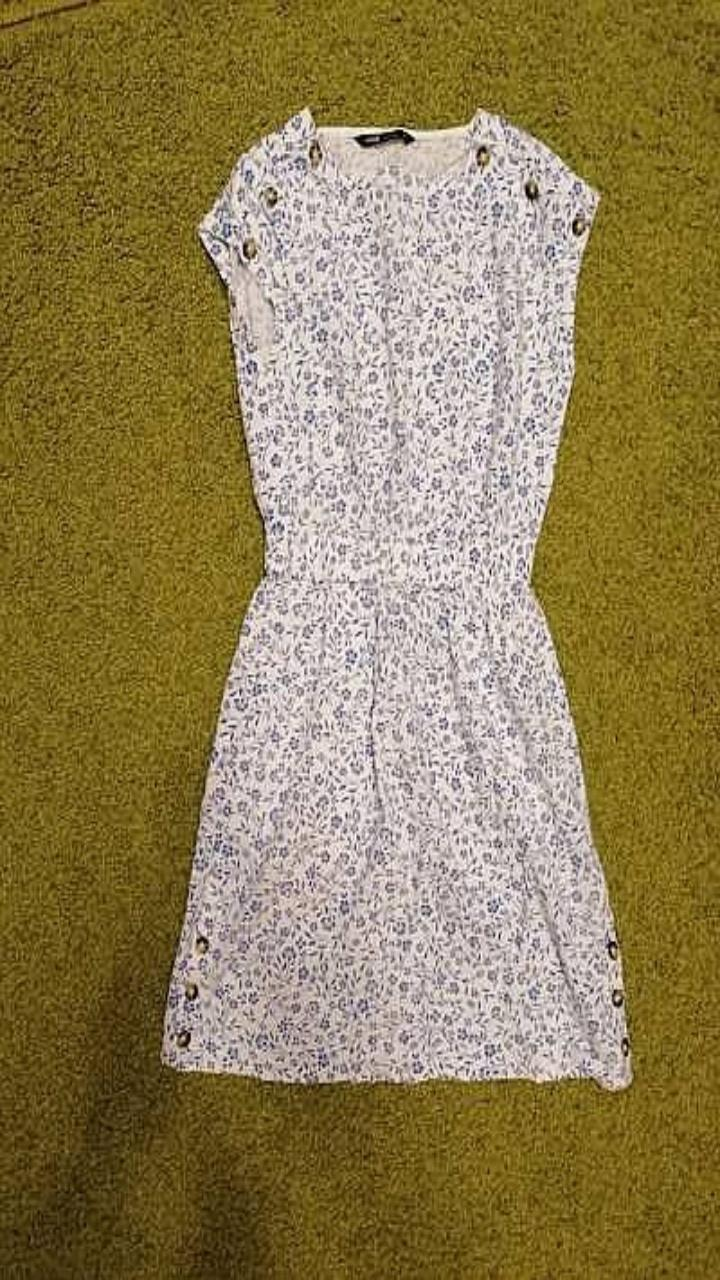Dresses: (162, 108, 631, 1088)
